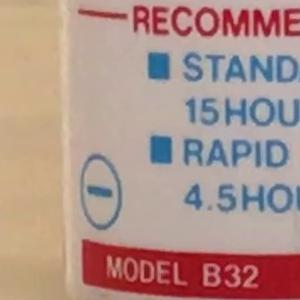keyword: (150, 258, 243, 288)
